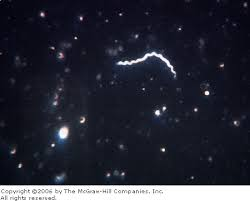sphyillis: (115, 50, 177, 77)
